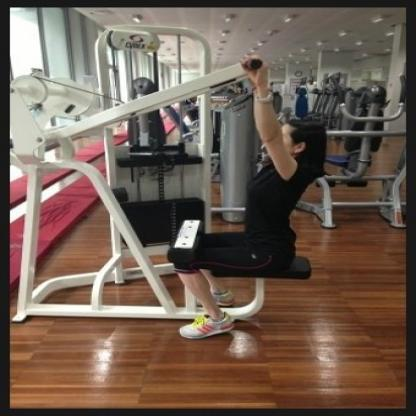Lat Pull Down: (0, 0, 345, 416)
